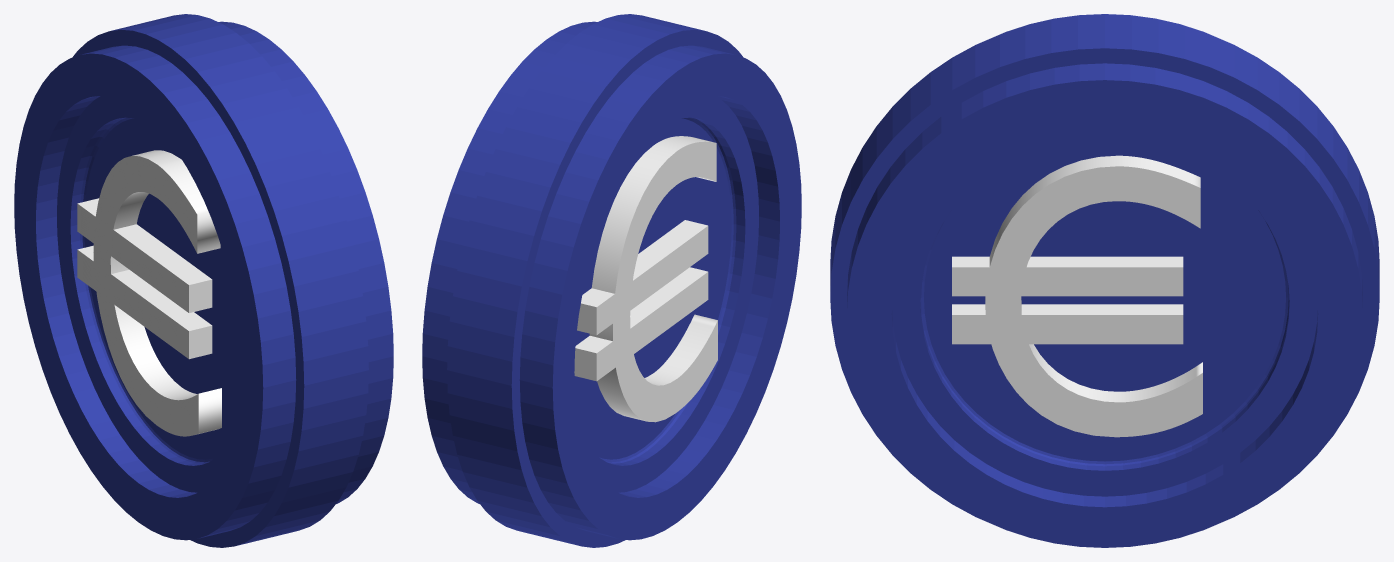
Rendered from eurocoin.gltf.
3 views of the same model, side by side, from view 1: azimuth 30°, elevation 25°; view 2: azimuth 150°, elevation 25°; view 3: azimuth 270°, elevation 25° (orthographic). The views are drawn at different scales.
Visible parts, largest first — view 1: Text; view 2: Text; view 3: Text.
Part boxes in pixels (<box>): Text: <box>14,14,393,547</box>; Text: <box>422,14,801,547</box>; Text: <box>830,14,1379,547</box>.
Size of the model in its own units: 0.569 by 2 by 2.
